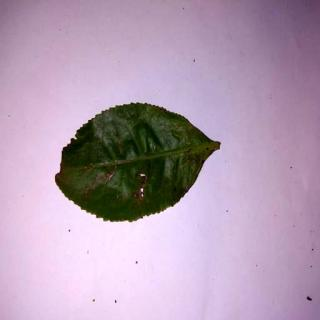Bird Eye Spot: (58, 104, 222, 224)
